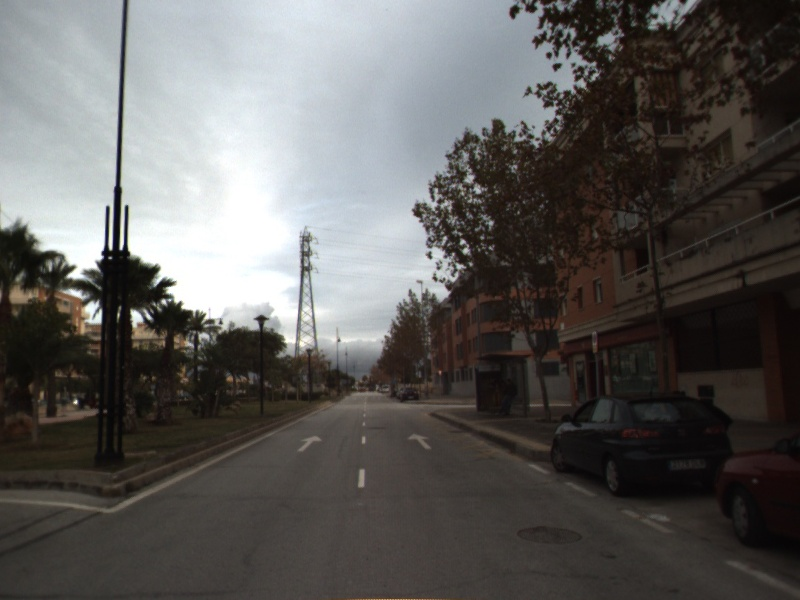STRAIGHT: (295, 433, 325, 454), (406, 431, 434, 451)
